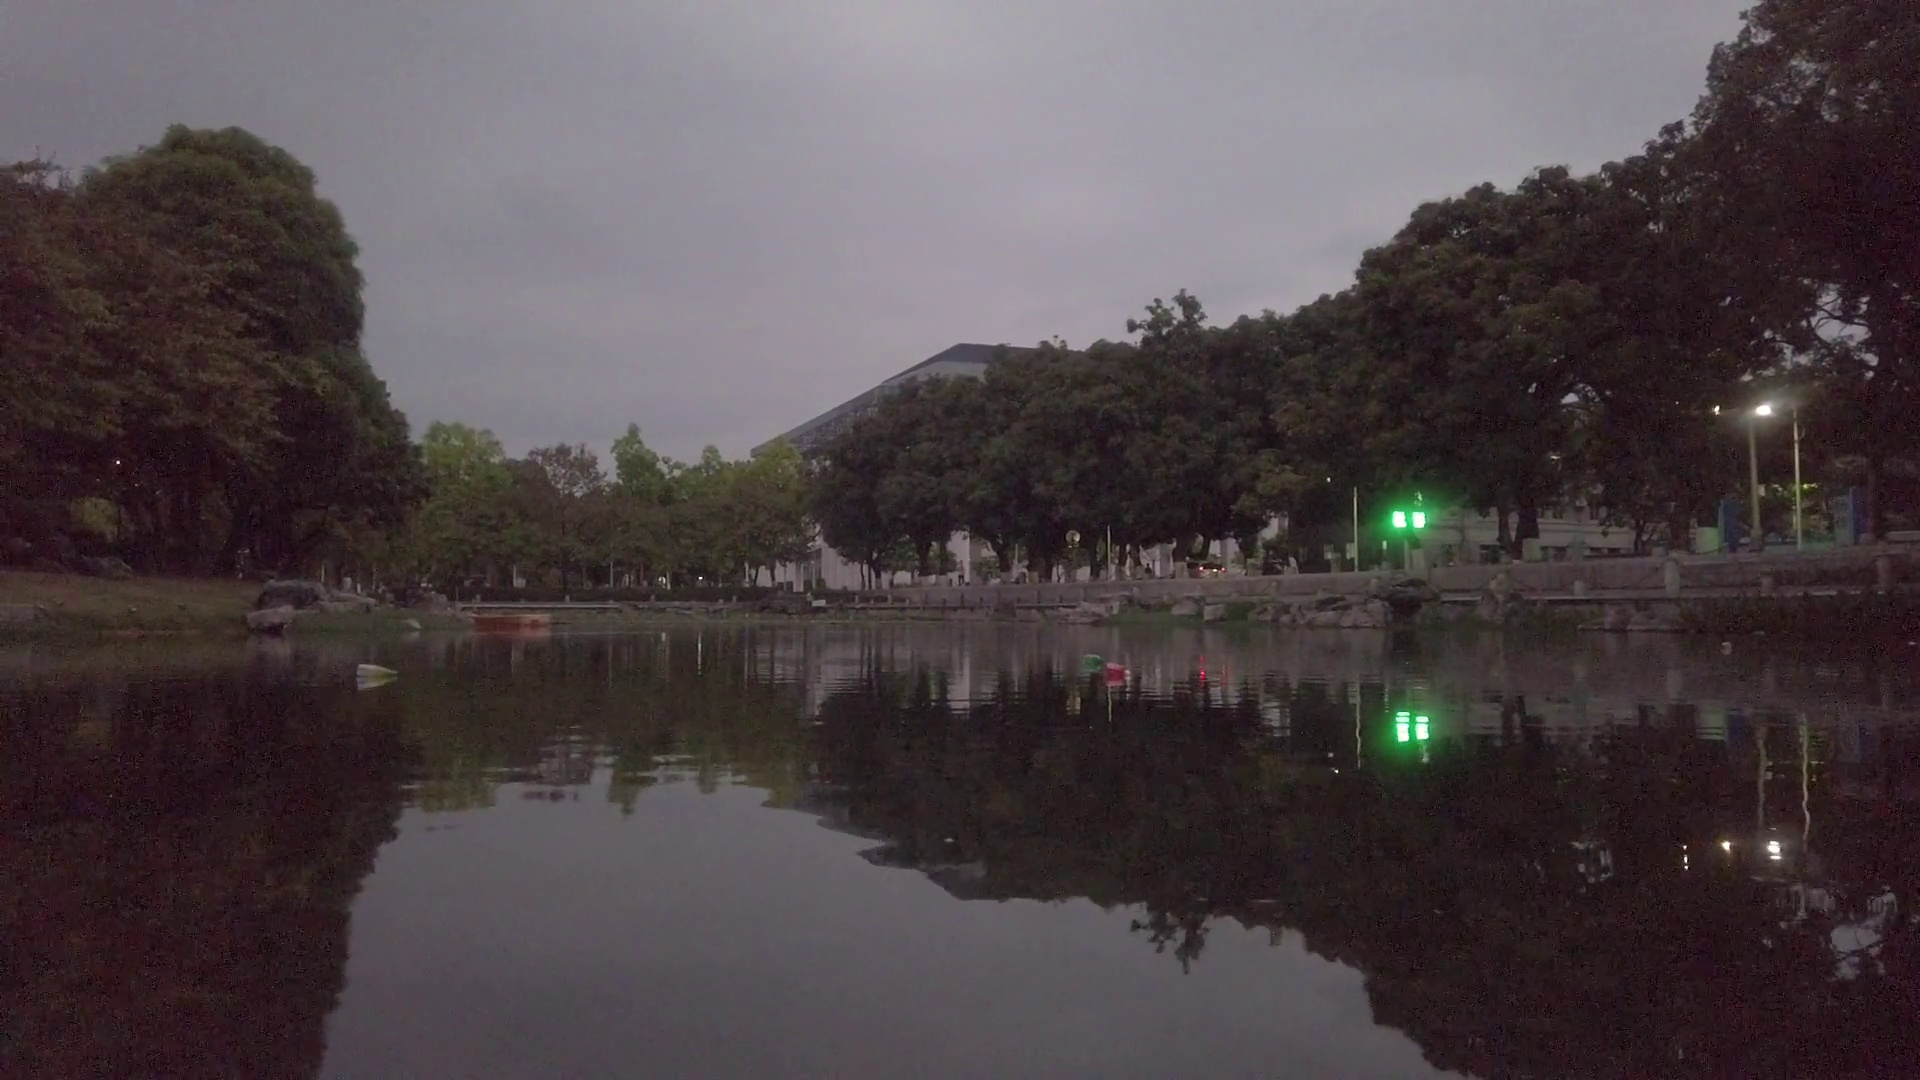bottle: (359, 662, 398, 679), (1106, 663, 1133, 680), (1716, 634, 1735, 655), (1085, 651, 1102, 666)
